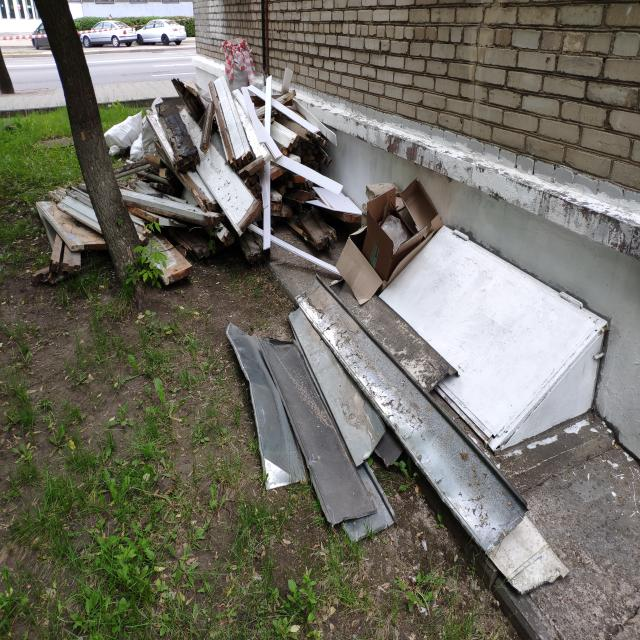entulho: (377, 358, 571, 592), (113, 82, 271, 280), (294, 290, 409, 469), (297, 403, 397, 541), (228, 322, 306, 491), (346, 168, 454, 272), (274, 151, 368, 248), (33, 186, 111, 284), (259, 88, 337, 152)
